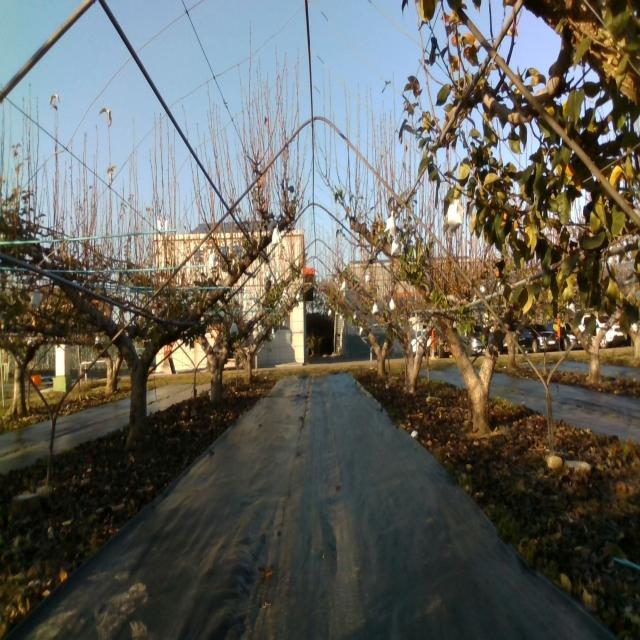pearbags: (447, 198, 465, 232), (384, 210, 396, 237), (206, 249, 218, 272), (390, 236, 402, 257), (272, 224, 282, 245)
